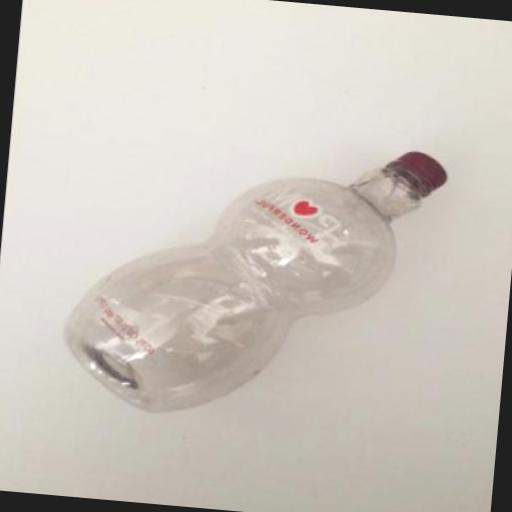plastic: (53, 122, 450, 436), (382, 148, 448, 198)
